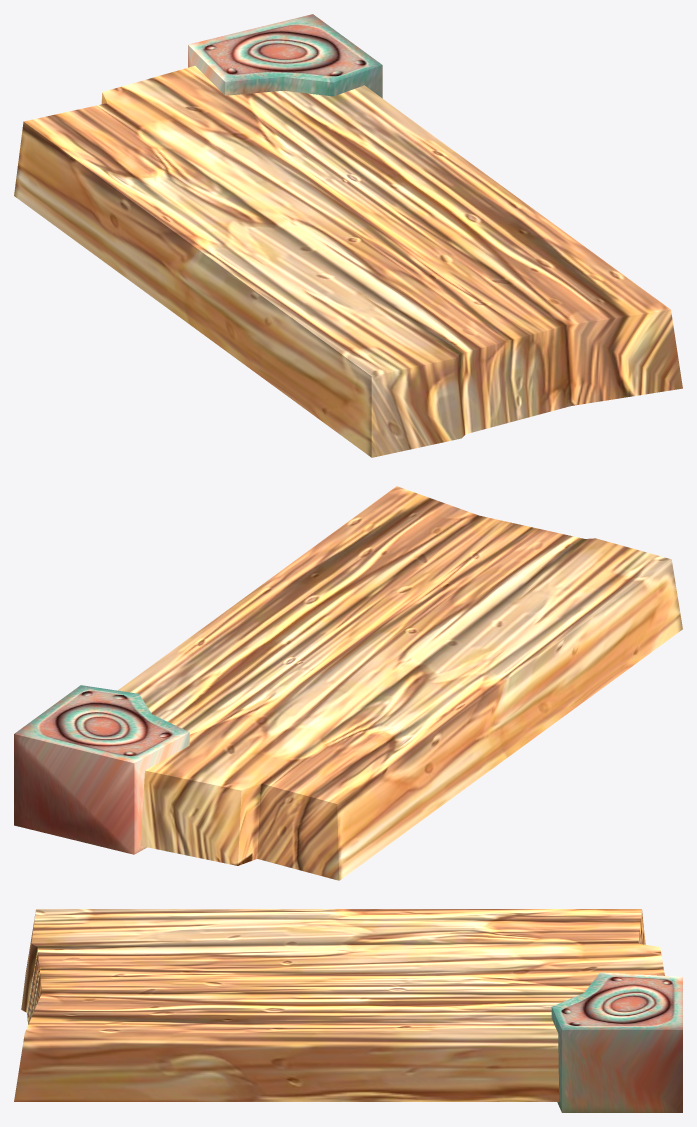
File: 529233db-9bb5-4ace-8100-b21bee2fbc09.glb
3 renders of one model, top to bottom at view 1: azimuth 30°, elevation 25°; view 2: azimuth 150°, elevation 25°; view 3: azimuth 270°, elevation 25°, orthographic. The views are drawn at different scales.
Parts seen in each view (by area): view 1: PlankA-Thin; view 2: PlankA-Thin; view 3: PlankA-Thin.
Boxes of the visible parts, x1,y1,x2,y2 form: PlankA-Thin: (14,14,682,457); PlankA-Thin: (14,486,682,880); PlankA-Thin: (14,909,682,1112).
Size of what is drawn, in the model's own units: 0.9912 by 0.2829 by 2.07.
Materials: 1 (1 with a texture image).
